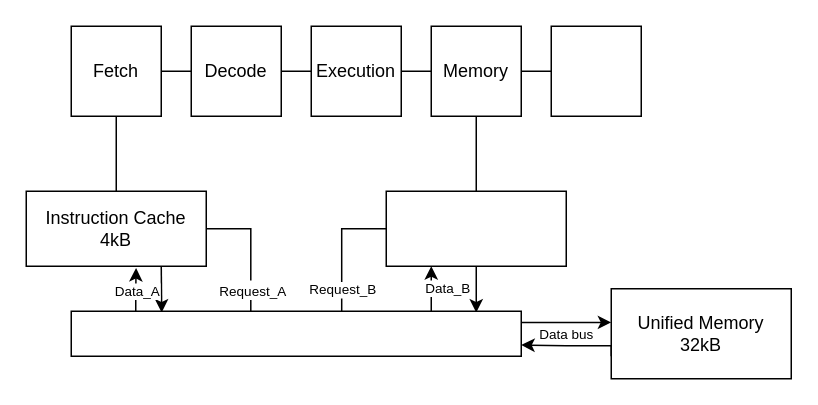
Some shapes in this 818 by 405 pixel diagram are drawn without their labels. The centre of each missing label's shape, as x and y in pixels:
"Arbiter" belongs at (x=295, y=333).
"Data Cache 4kB" belongs at (x=475, y=228).
"Writeback" belongs at (x=595, y=70).
